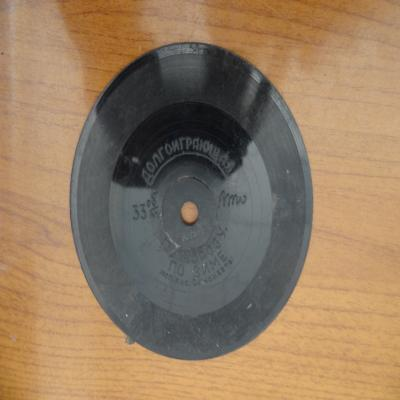other: (69, 42, 314, 362)
